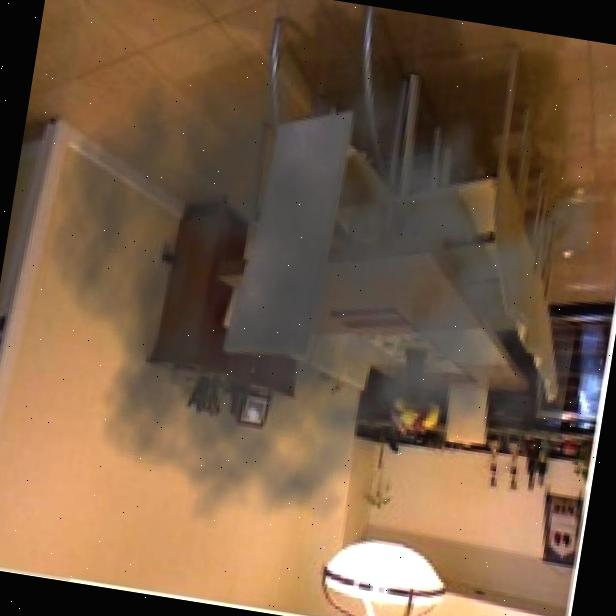smoke: (9, 0, 616, 580)
